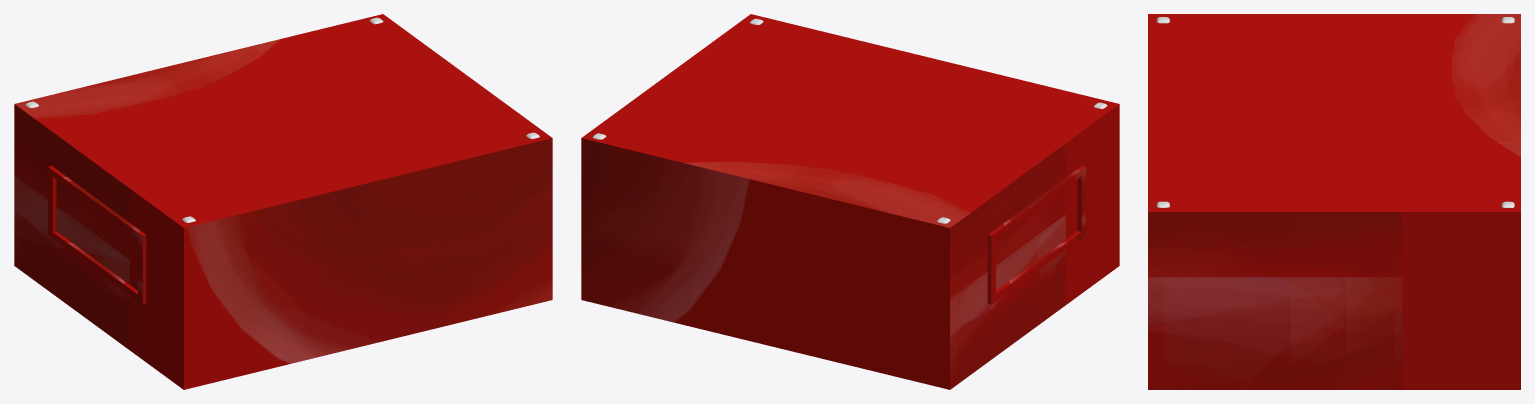
Rendered from Room_Final.fbx.
3 views of the same model, side by side, from view 1: azimuth 30°, elevation 25°; view 2: azimuth 150°, elevation 25°; view 3: azimuth 270°, elevation 25° (orthographic). The views are drawn at different scales.
Parts seen in each view (by area): view 1: Room, Window; view 2: Room, Window; view 3: Room.
Part boxes in pixels (box(x1,y1,x2,y2)): Room: box(14, 14, 552, 389); Window: box(48, 165, 146, 304); Room: box(581, 14, 1119, 389); Window: box(987, 165, 1085, 304); Room: box(1148, 14, 1520, 389).
Size of the model in its own units: 1012 by 432 by 797.
28 materials, 25 textured.
